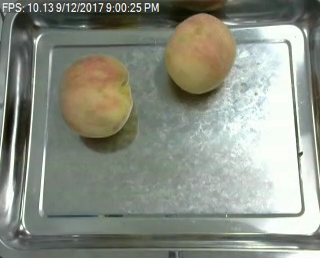Peach: (59, 52, 134, 138), (165, 13, 235, 93)
